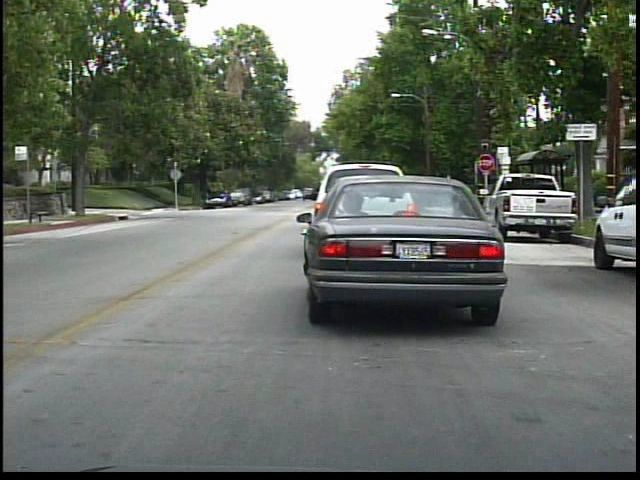person: (216, 179, 231, 205)
